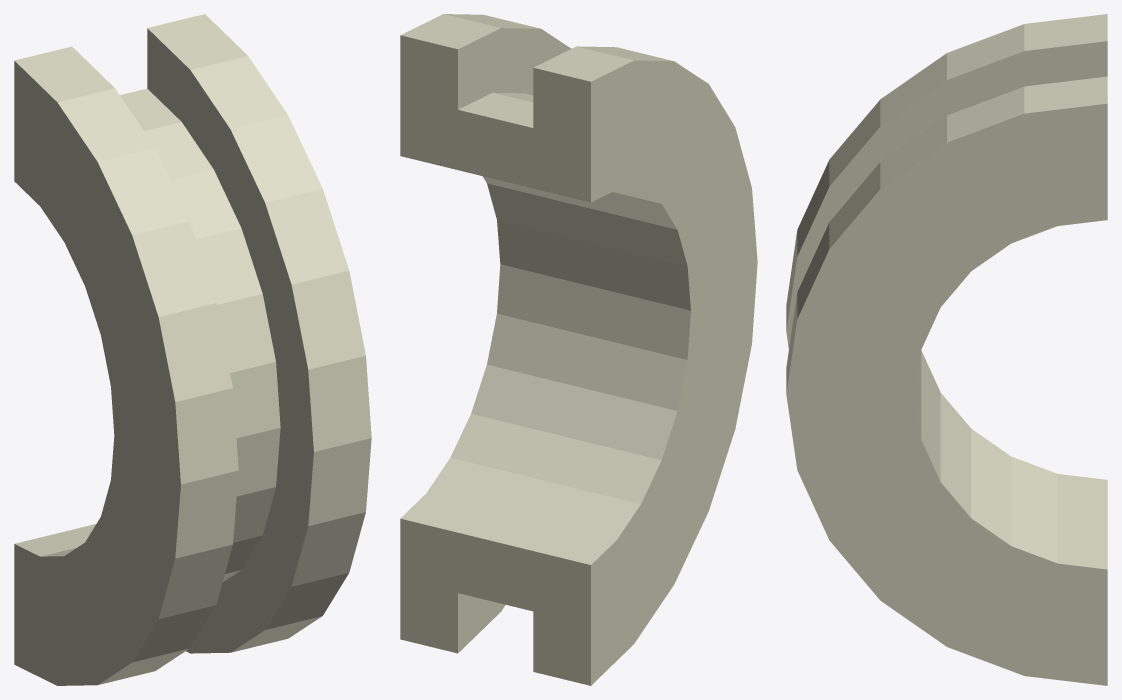
The model's file is section_107.obj.
The picture shows the model from 3 angles, left to right: view 1: azimuth 30°, elevation 25°; view 2: azimuth 150°, elevation 25°; view 3: azimuth 270°, elevation 25°; orthographic projection. The views are drawn at different scales.
Size of the model in its own units: 3.3 by 10 by 5.
